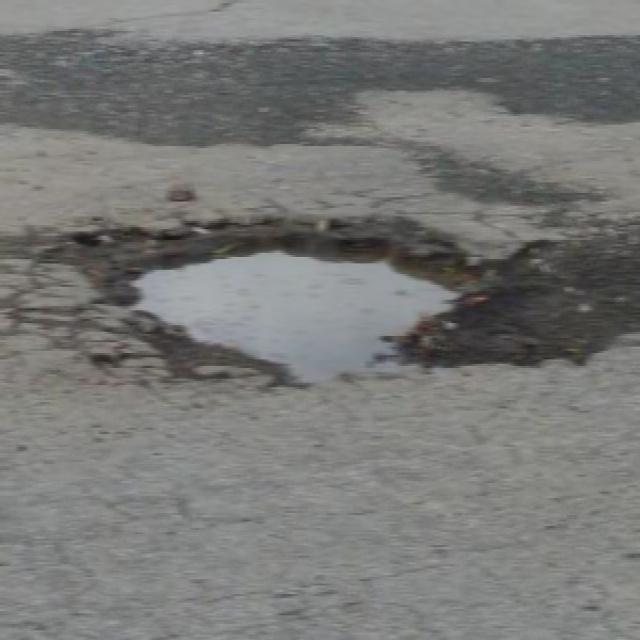Pothole: (72, 213, 530, 400)
